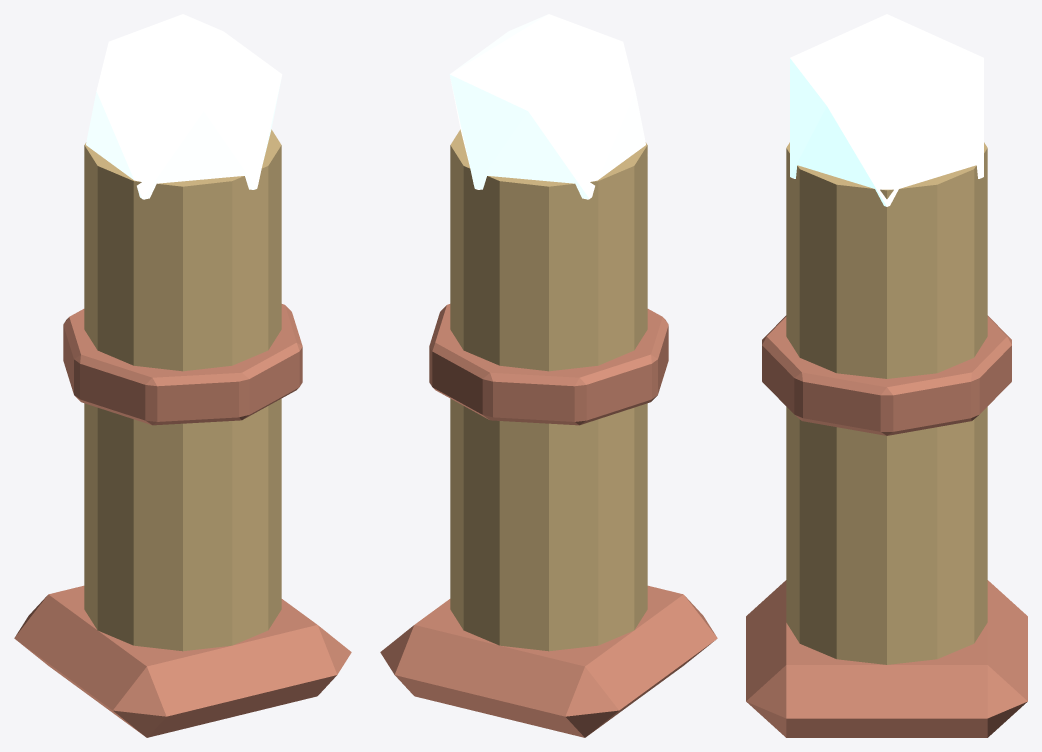
File: TH_Top_Chimney.fbx
3 renders of one model, left to right at view 1: azimuth 30°, elevation 25°; view 2: azimuth 150°, elevation 25°; view 3: azimuth 270°, elevation 25°, orthographic. The views are drawn at different scales.
Visible parts, largest first — view 1: TH_Top_Chimney; view 2: TH_Top_Chimney; view 3: TH_Top_Chimney.
Part boxes in pixels (left/top/right/bottom): TH_Top_Chimney: left=14, top=14, right=351, bottom=737; TH_Top_Chimney: left=380, top=14, right=717, bottom=737; TH_Top_Chimney: left=746, top=14, right=1027, bottom=737.
Size of the model in its own units: 0.42 by 1.12 by 0.42.
